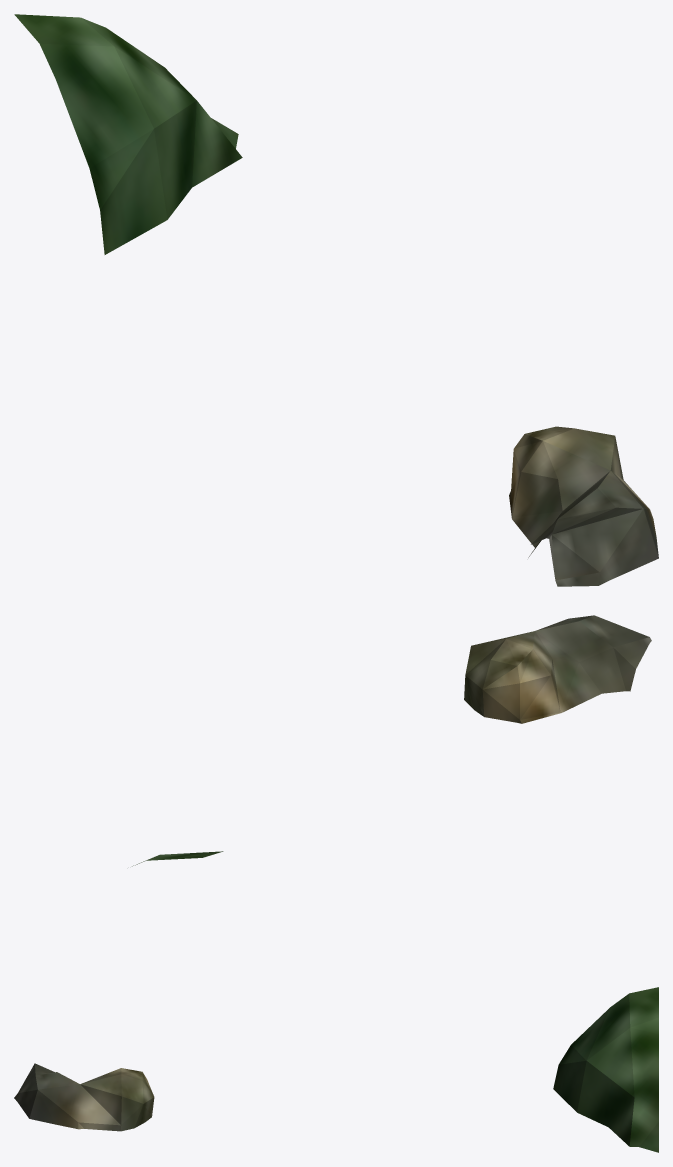
The picture shows the model from 3 angles, top to bottom: view 1: azimuth 30°, elevation 25°; view 2: azimuth 150°, elevation 25°; view 3: azimuth 270°, elevation 25°; orthographic projection. The views are drawn at different scales.
Size of the model in its own units: 0.1525 by 0.1133 by 0.6501.
Materials: 1 (1 with a texture image).
